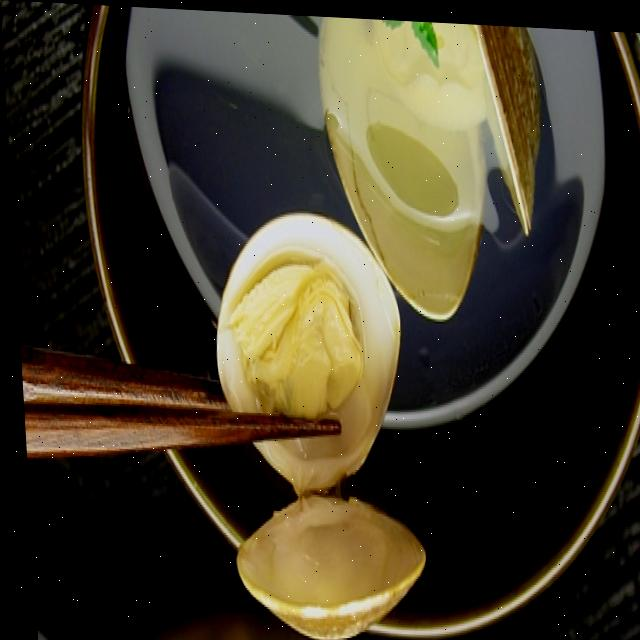汤锅炖物: (63, 3, 640, 640)
